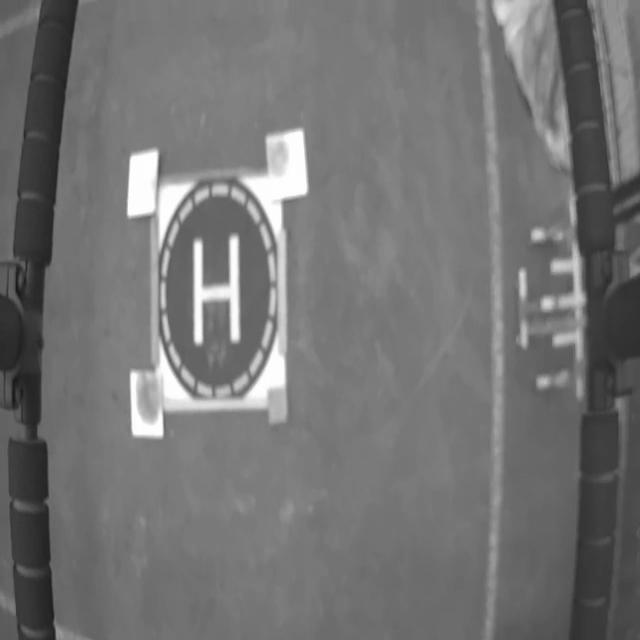Helipad: (193, 234, 240, 346)
